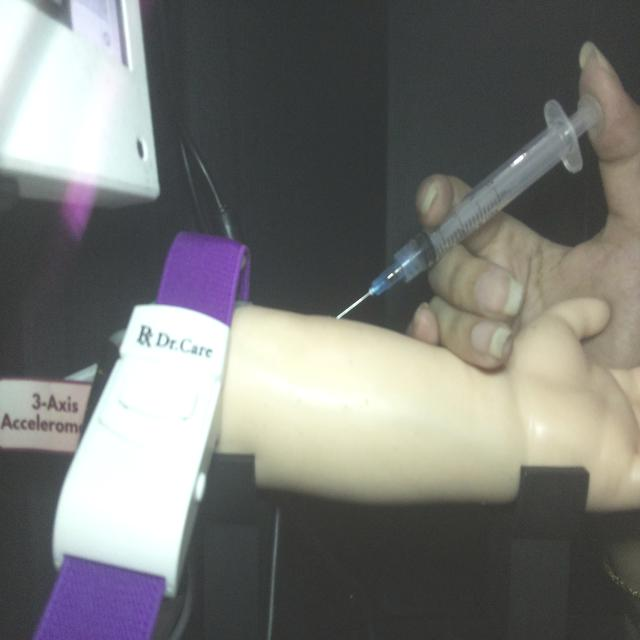30 degrees: (333, 88, 604, 322)
